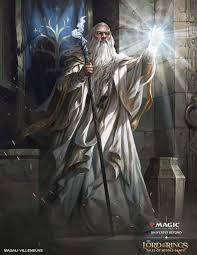gandalf gray: (39, 12, 175, 231)
